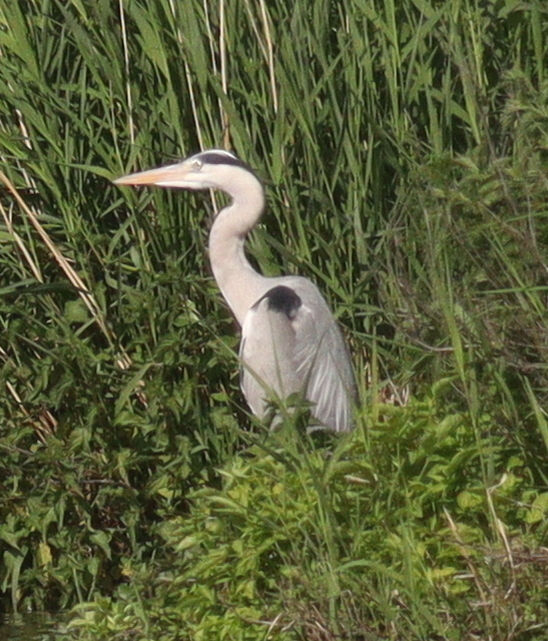heron: (109, 149, 364, 471)
